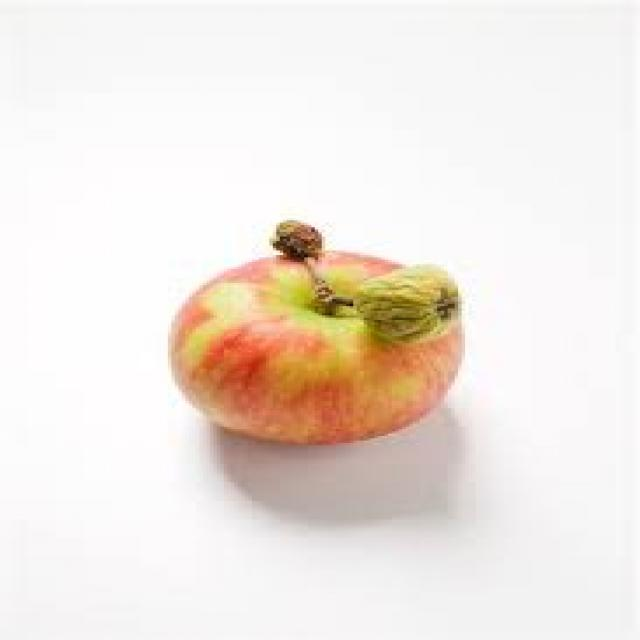organic waste: (168, 216, 462, 443), (350, 260, 458, 341), (269, 220, 322, 262)
